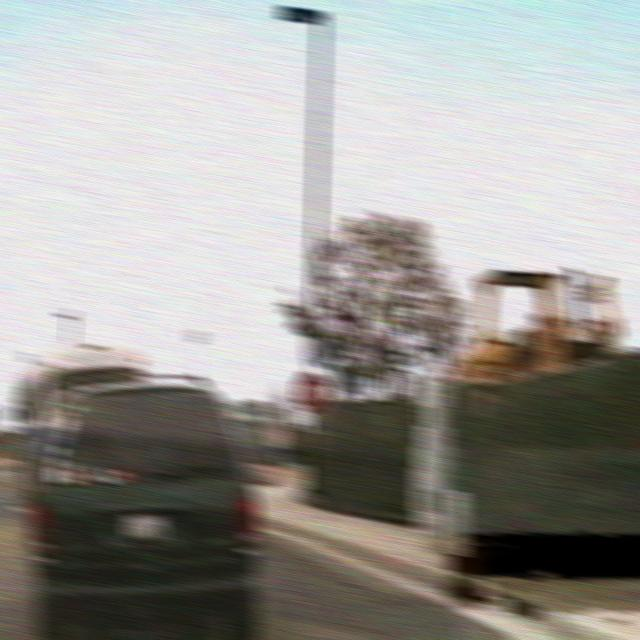stop: (293, 369, 331, 414)
